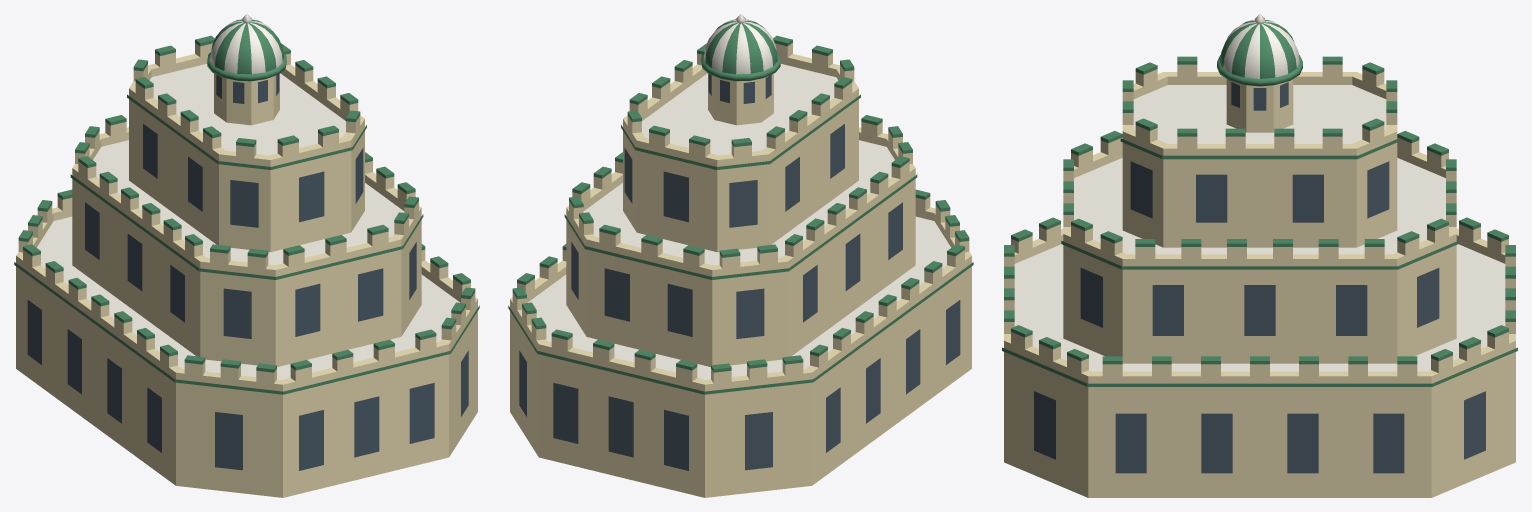
File: phx-tovrea-castle.glb
3 renders of one model, left to right at view 1: azimuth 30°, elevation 25°; view 2: azimuth 150°, elevation 25°; view 3: azimuth 270°, elevation 25°, orthographic. The views are drawn at different scales.
Parts seen in each view (by area): view 1: Tovrea Castle; view 2: Tovrea Castle; view 3: Tovrea Castle.
Part boxes in pixels (bbox=[...]): Tovrea Castle: bbox=[14, 14, 479, 497]; Tovrea Castle: bbox=[508, 14, 973, 497]; Tovrea Castle: bbox=[1002, 14, 1517, 497].
Bounding box in the file's own units: 12.12 × 14.3 × 16.52.
